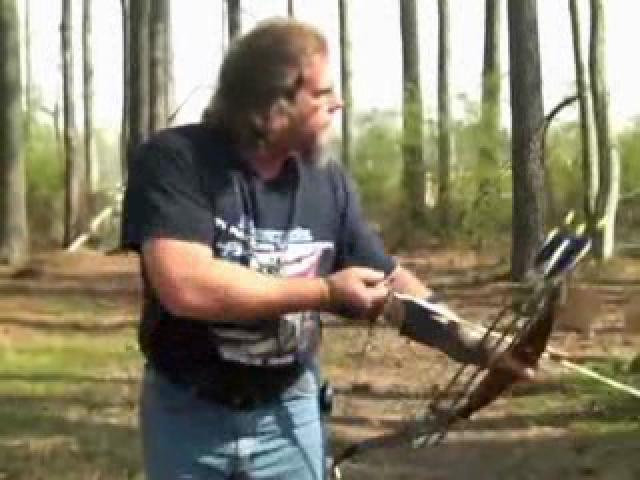I: (115, 14, 544, 480)
